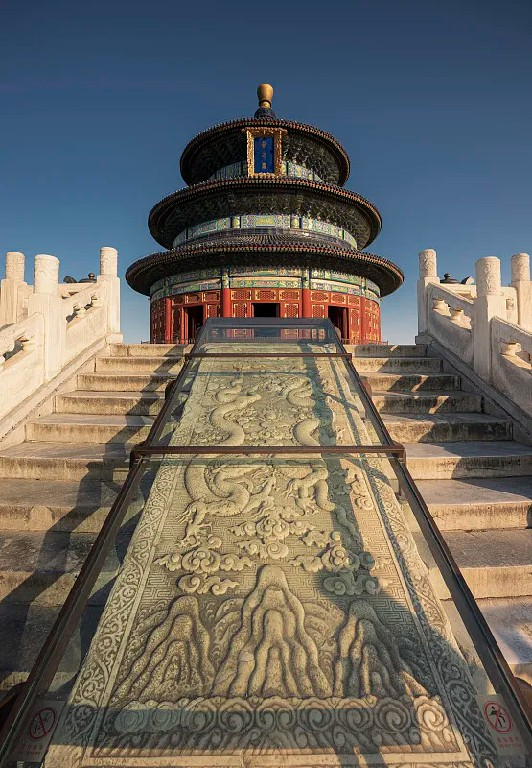Heaven: (122, 81, 405, 345)
